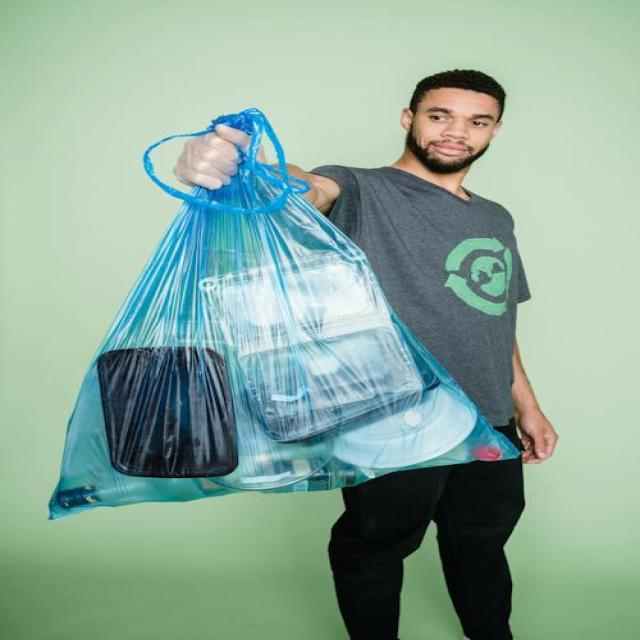trash: (90, 141, 520, 524)
